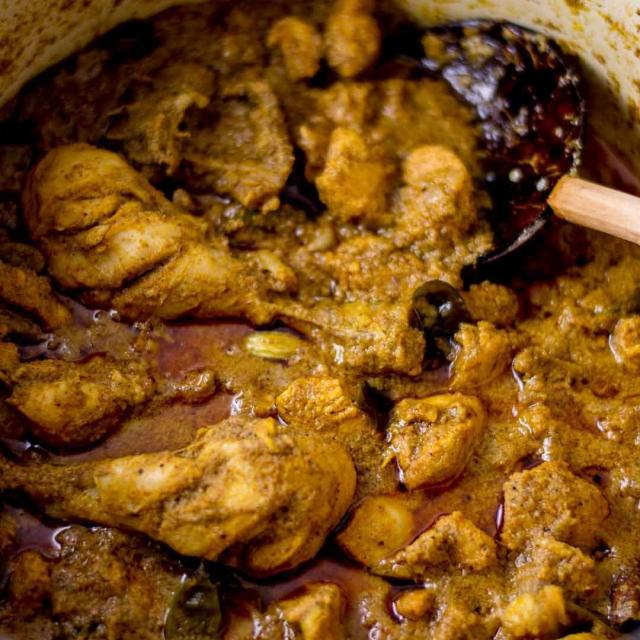chicken: (20, 42, 636, 630)
